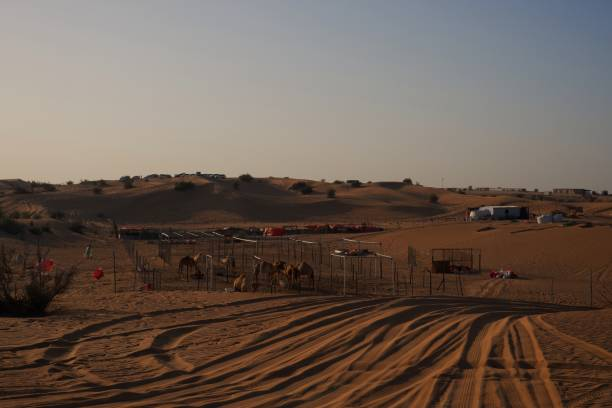vehicle_track: (0, 297, 573, 406)
